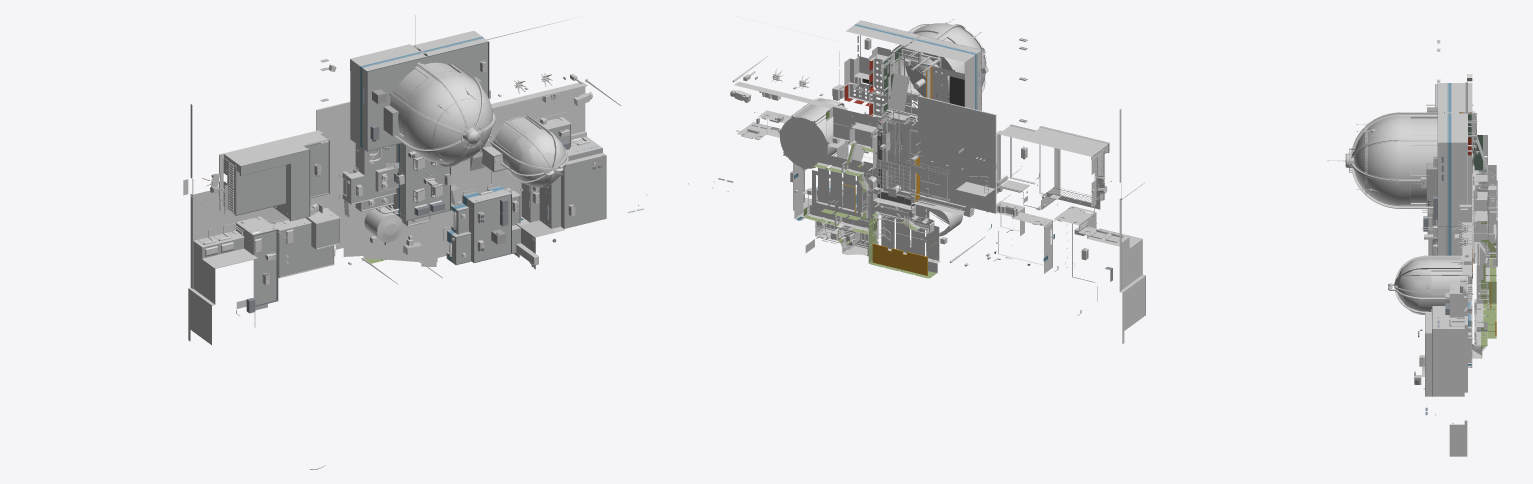
Rendered from de_nuke.glb.
3 renders of one model, left to right at view 1: azimuth 30°, elevation 25°; view 2: azimuth 150°, elevation 25°; view 3: azimuth 270°, elevation 25°, orthographic.
Parts seen in each view (by area): view 1: node000_world_lr0_agg11_11_hr_concrete_roof_001.002, node000_world_lr0_agg24_2_hr_asphalt_blend_001.002, node000_world_lr0_agg11_11_hr_concrete_roof_001.003, node000_world_lr0_agg11_11_hr_concrete_roof_001.004, node000_prop0_lr0_agg83_5_nuke_silo_001b.004, node000_world_lr0_agg6_2_concrete.001, node000_world_lr0_agg11_11_hr_concrete_roof_001.001, node000_world_lr0_agg15_13_hr_concrete_wall_001b.007, node000_world_lr0_agg24_2_hr_asphalt_blend_001.001, node000_prop0_lr0_agg83_5_nuke_silo_001b.002, node000_world_lr0_agg31_23_hr_metal_corrugated_001.008, node000_world_lr0_agg30_10_metal.008 (+13 smaller); view 2: node000_world_lr0_agg6_2_concrete.002, node000_world_lr0_agg33_3_hr_metal_corrugated_002.001, node000_world_lr0_agg6_2_concrete.001, node000_world_lr0_agg30_10_metal.008, node000_world_lr0_agg15_13_hr_concrete_wall_001b.007, node000_world_lr0_agg80_2_hr_pebbledash_001.001, node000_world_lr0_agg30_10_metal.001, node000_world_lr0_agg31_23_hr_metal_corrugated_001.008, node000_world_lr0_agg15_13_hr_concrete_wall_001b.002, node000_world_lr0_agg7_4_hr_concrete_ceiling_painted_001.001, node000_world_lr0_agg30_10_metal.004, node000_world_lr0_agg4_1_hr_ceiling_tile_001_color.001 (+18 smaller); view 3: node000_world_lr0_agg15_13_hr_concrete_wall_001b.002, node000_prop0_lr0_agg83_5_nuke_silo_001b.002, node000_world_lr0_agg6_2_concrete.001, node000_prop0_lr0_agg83_5_nuke_silo_001b.005, node000_world_lr0_agg31_23_hr_metal_corrugated_001.009, node000_world_lr0_agg31_23_hr_metal_corrugated_001.006, node000_world_lr0_agg19_5_hr_concrete_wall_painted_001.002, node000_world_lr0_agg19_5_hr_concrete_wall_painted_001.001, node000_world_lr0_agg30_10_metal.004, node000_world_lr0_agg31_23_hr_metal_corrugated_001.002, node000_world_lr0_agg15_13_hr_concrete_wall_001b.008, node000_world_lr0_agg30_10_metal.008 (+18 smaller).
Boxes of the visible parts, x1,y1,x2,y2 form: node000_world_lr0_agg11_11_hr_concrete_roof_001.002: (202,142,339,310); node000_world_lr0_agg24_2_hr_asphalt_blend_001.002: (330,86,585,266); node000_world_lr0_agg11_11_hr_concrete_roof_001.003: (456,124,606,263); node000_world_lr0_agg11_11_hr_concrete_roof_001.004: (367,42,487,220); node000_prop0_lr0_agg83_5_nuke_silo_001b.004: (389,81,461,165); node000_world_lr0_agg6_2_concrete.001: (490,115,568,188); node000_world_lr0_agg11_11_hr_concrete_roof_001.001: (280,144,398,276); node000_world_lr0_agg15_13_hr_concrete_wall_001b.007: (188,59,359,341); node000_world_lr0_agg24_2_hr_asphalt_blend_001.001: (193,139,355,239); node000_prop0_lr0_agg83_5_nuke_silo_001b.002: (451,84,497,164); node000_world_lr0_agg31_23_hr_metal_corrugated_001.008: (199,220,276,344); node000_world_lr0_agg30_10_metal.008: (190,148,416,284); node000_world_lr0_agg6_2_concrete.002: (887,96,1040,213); node000_world_lr0_agg33_3_hr_metal_corrugated_002.001: (826,50,964,272); node000_world_lr0_agg6_2_concrete.001: (778,98,849,170); node000_world_lr0_agg30_10_metal.008: (868,130,1144,262); node000_world_lr0_agg15_13_hr_concrete_wall_001b.007: (964,55,1132,343); node000_world_lr0_agg80_2_hr_pebbledash_001.001: (998,126,1106,208); node000_world_lr0_agg30_10_metal.001: (876,45,939,132); node000_world_lr0_agg31_23_hr_metal_corrugated_001.008: (1059,206,1145,324); node000_world_lr0_agg15_13_hr_concrete_wall_001b.002: (736,16,973,215); node000_world_lr0_agg7_4_hr_concrete_ceiling_painted_001.001: (810,152,934,229); node000_world_lr0_agg30_10_metal.004: (819,84,917,185); node000_world_lr0_agg4_1_hr_ceiling_tile_001_color.001: (850,56,887,115); node000_world_lr0_agg15_13_hr_concrete_wall_001b.002: (1449,83,1472,396); node000_prop0_lr0_agg83_5_nuke_silo_001b.002: (1327,128,1420,208); node000_world_lr0_agg6_2_concrete.001: (1388,255,1466,314); node000_prop0_lr0_agg83_5_nuke_silo_001b.005: (1365,112,1438,176); node000_world_lr0_agg31_23_hr_metal_corrugated_001.009: (1426,302,1470,396); node000_world_lr0_agg31_23_hr_metal_corrugated_001.006: (1439,83,1448,222); node000_world_lr0_agg19_5_hr_concrete_wall_painted_001.002: (1481,267,1496,358); node000_world_lr0_agg19_5_hr_concrete_wall_painted_001.001: (1473,201,1489,358); node000_world_lr0_agg30_10_metal.004: (1454,191,1496,279); node000_world_lr0_agg31_23_hr_metal_corrugated_001.002: (1448,83,1451,255); node000_world_lr0_agg15_13_hr_concrete_wall_001b.008: (1452,142,1472,283); node000_world_lr0_agg30_10_metal.008: (1424,104,1496,294).
Bounding box in the file's own units: 267 × 176 × 70.57.
